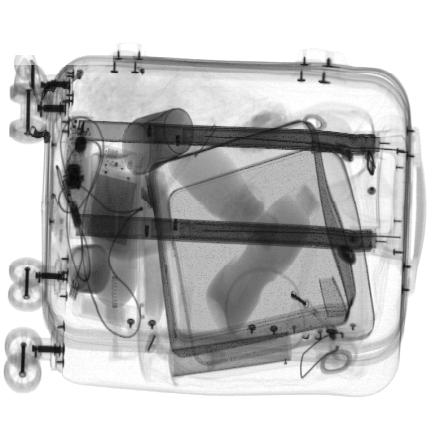Powerbank: (84, 144, 141, 246)
